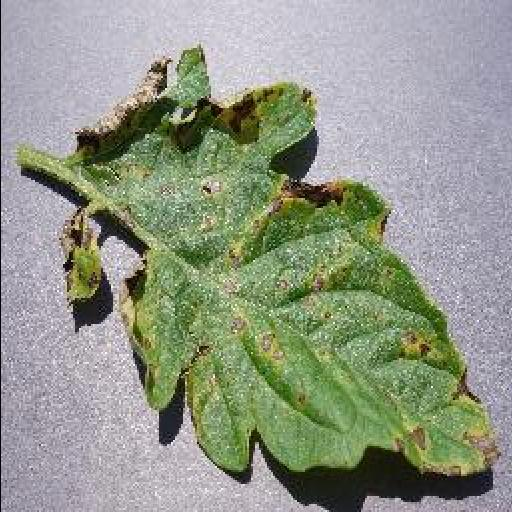disease_tomato: (65, 43, 503, 481)
